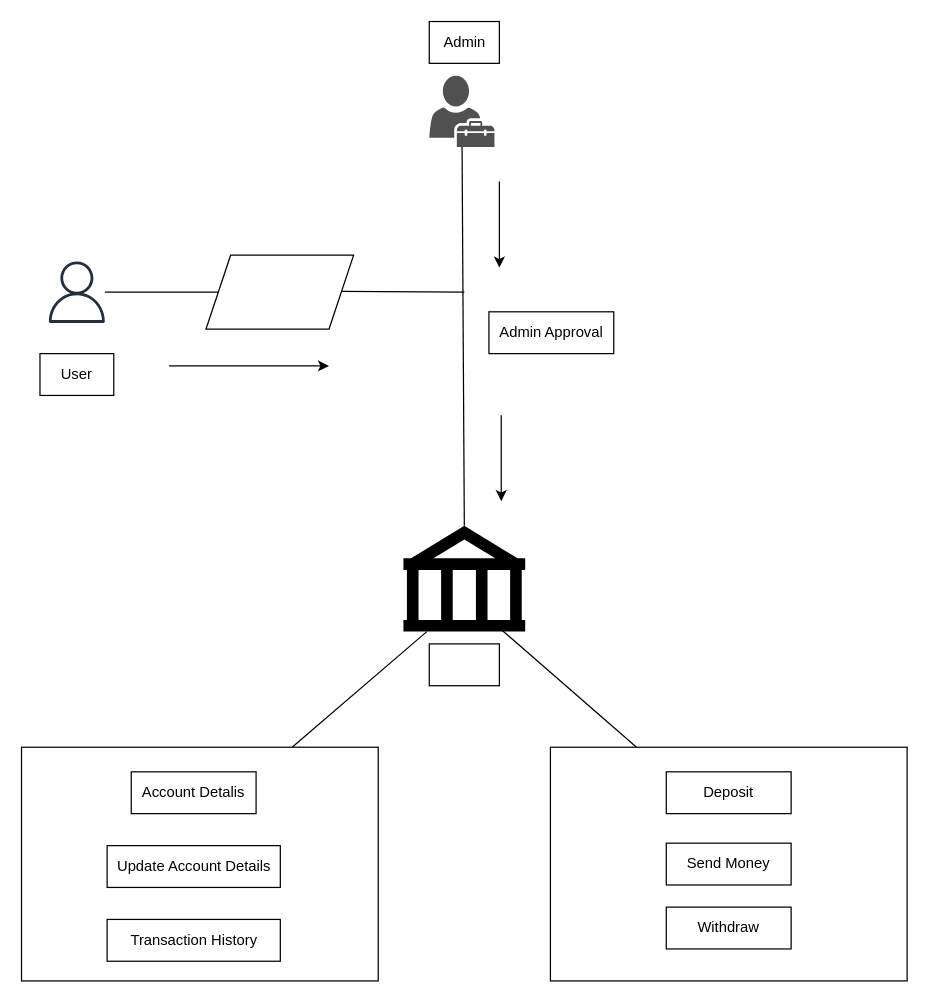
The diagram is 929 pixels wide and 1002 high, and some of its shapes have lost their labels. The centre of each missing label's shape, as x and y in pixels:
"Bank App" belongs at (x=463, y=664).
"Register Account" belongs at (x=279, y=291).
